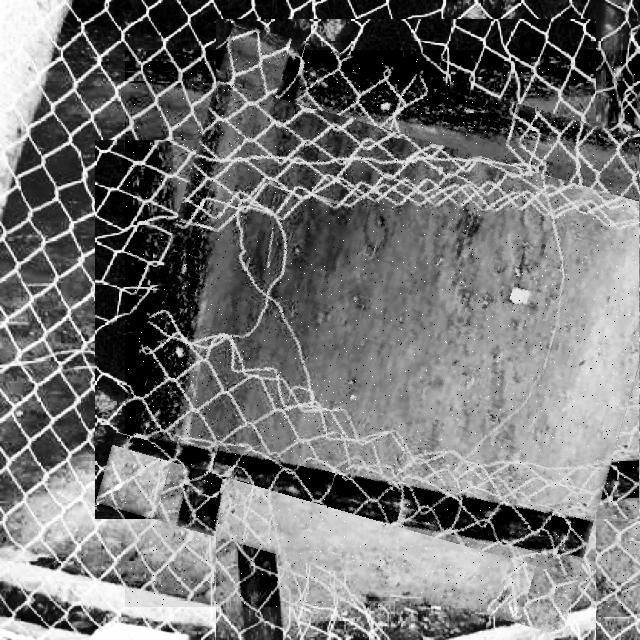anomaly-fence: (125, 50, 640, 607)
